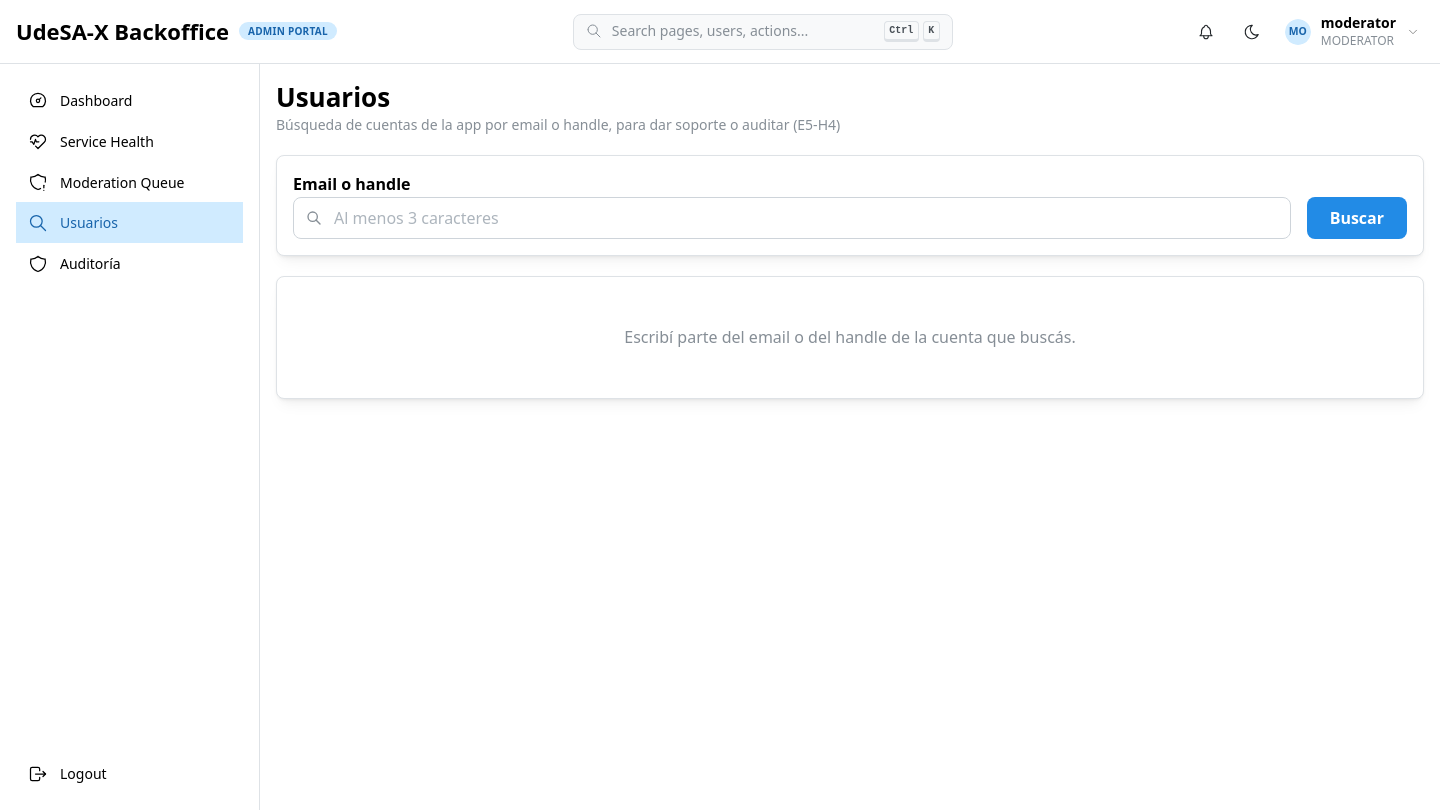
Test: Backoffice App Shell › E5-H4 - lets a moderator search accounts, keeping the text in the address
The width and height of the screenshot is (1440, 810).
Expected: the heading "Usuarios" is shown, top-left (276, 79), bottom-right (390, 115)
Type "gomez" into the field labelled "Email o handle" at (792, 218), box top-left (293, 197), bottom-right (1291, 239)
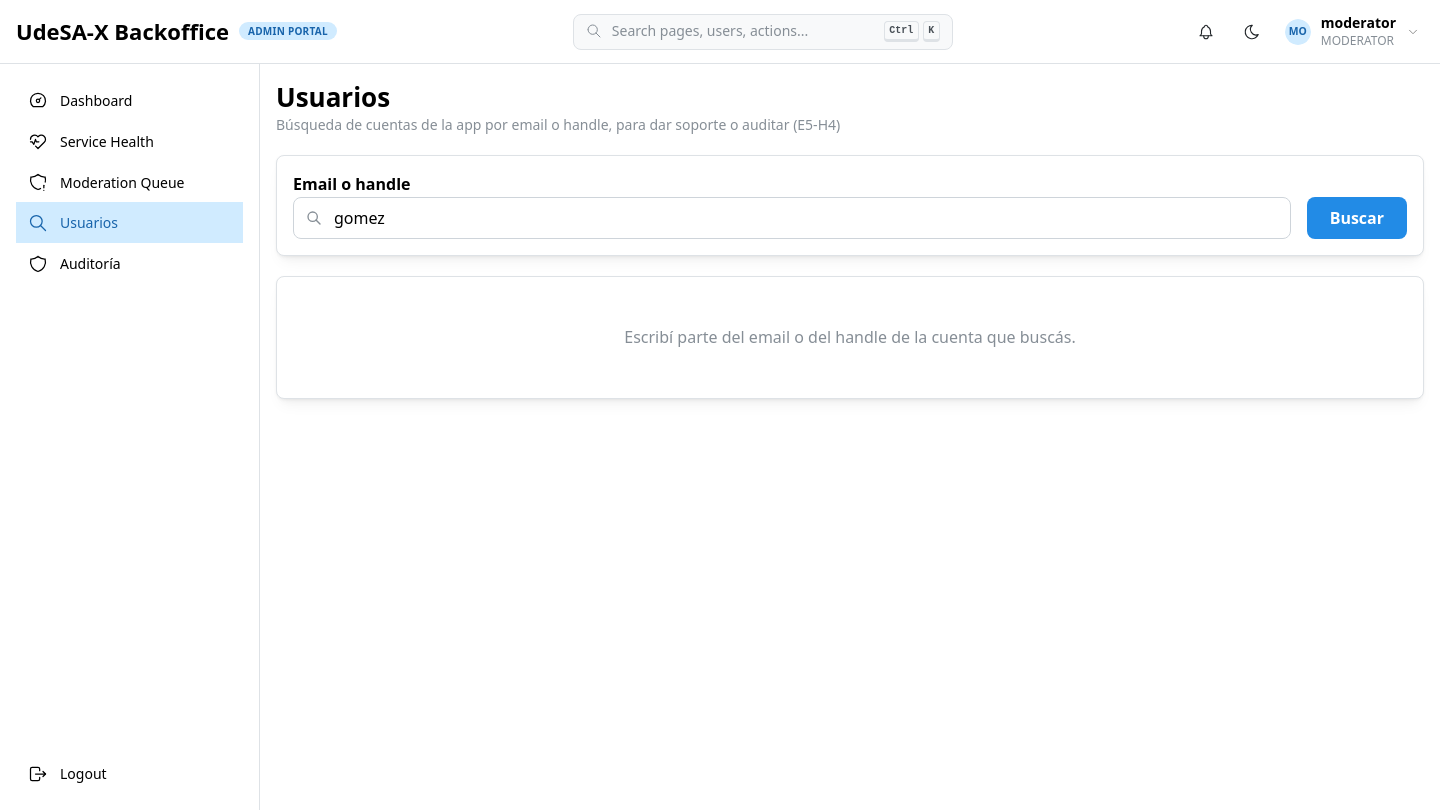
Click the button "Buscar" at (1357, 218), box top-left (1307, 197), bottom-right (1407, 239)
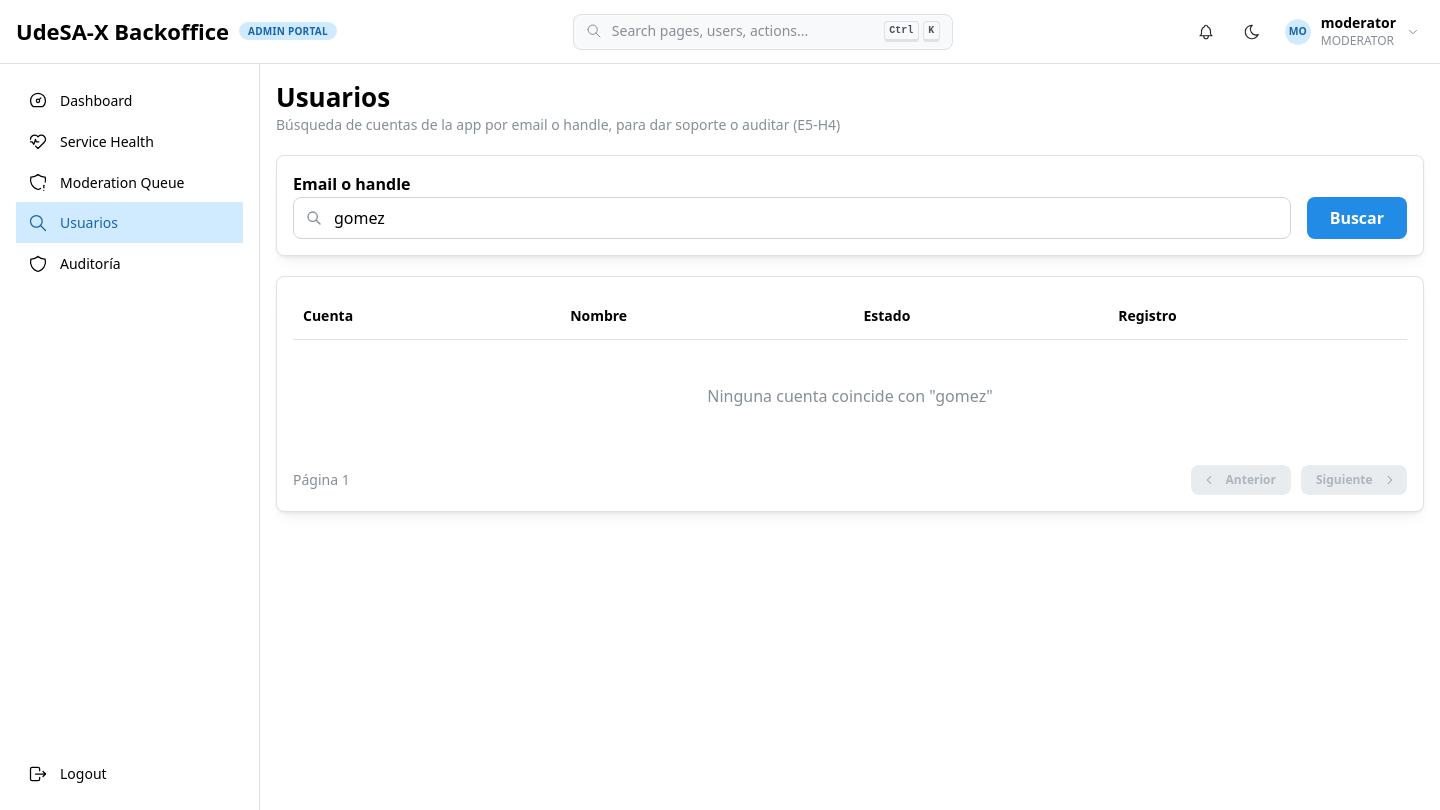
Expected: the text "Ninguna cuenta coincide con \"gomez\"" is shown, top-left (707, 385), bottom-right (993, 407)
